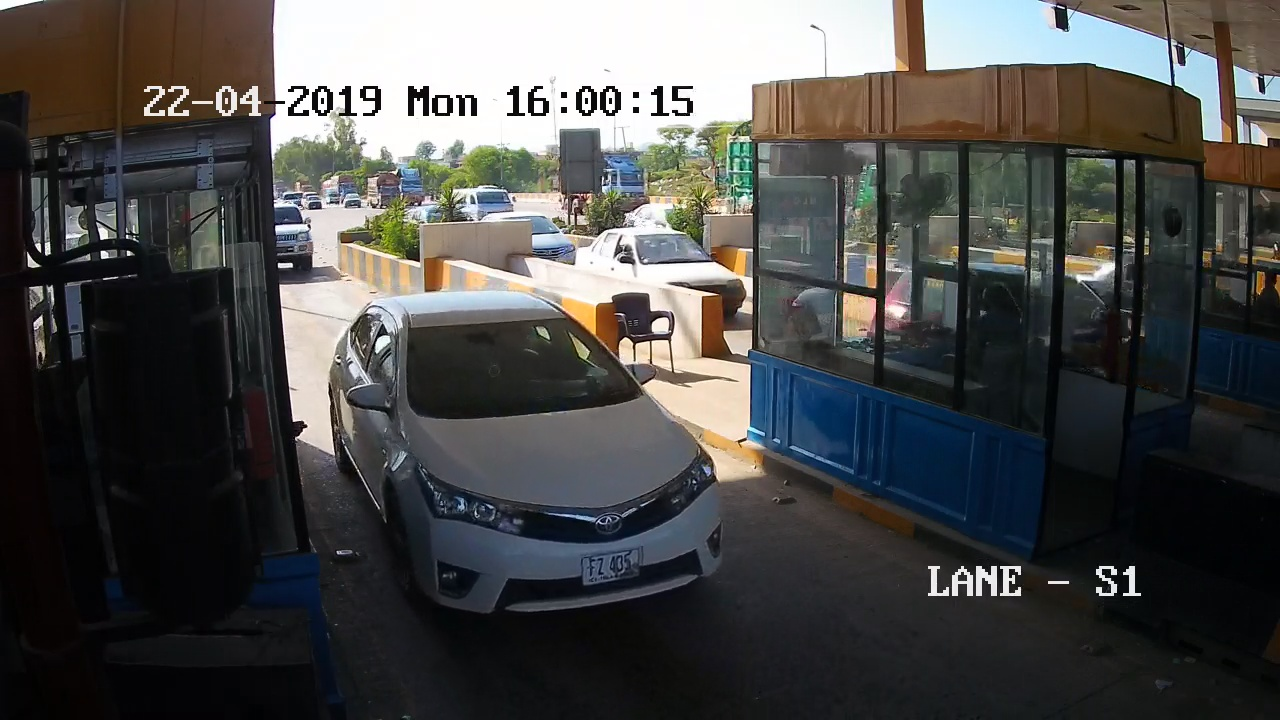car: (316, 296, 758, 613)
